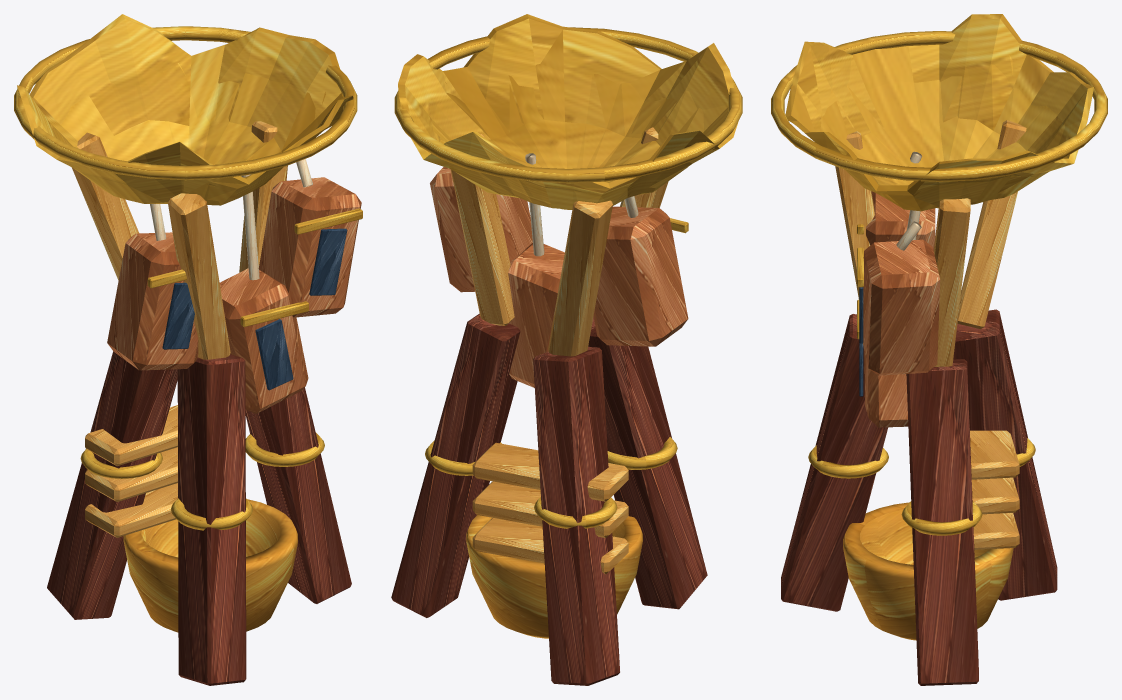
File: revised-01-05.glb
3 renders of one model, left to right at view 1: azimuth 30°, elevation 25°; view 2: azimuth 150°, elevation 25°; view 3: azimuth 270°, elevation 25°, orthographic. The views are drawn at different scales.
Visible parts, largest first — view 1: rain_tower; view 2: rain_tower; view 3: rain_tower.
Part boxes in pixels (box(x1,y1,x2,y2)): rain_tower: box(14, 14, 362, 685); rain_tower: box(391, 14, 742, 685); rain_tower: box(771, 14, 1107, 685).
Bounding box in the file's own units: 1.25 × 2.17 × 1.22.
2 materials, 2 textured.
